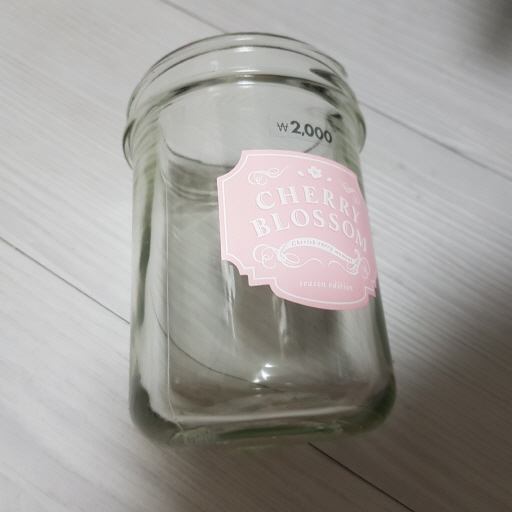Glass_5: (115, 31, 398, 444)
